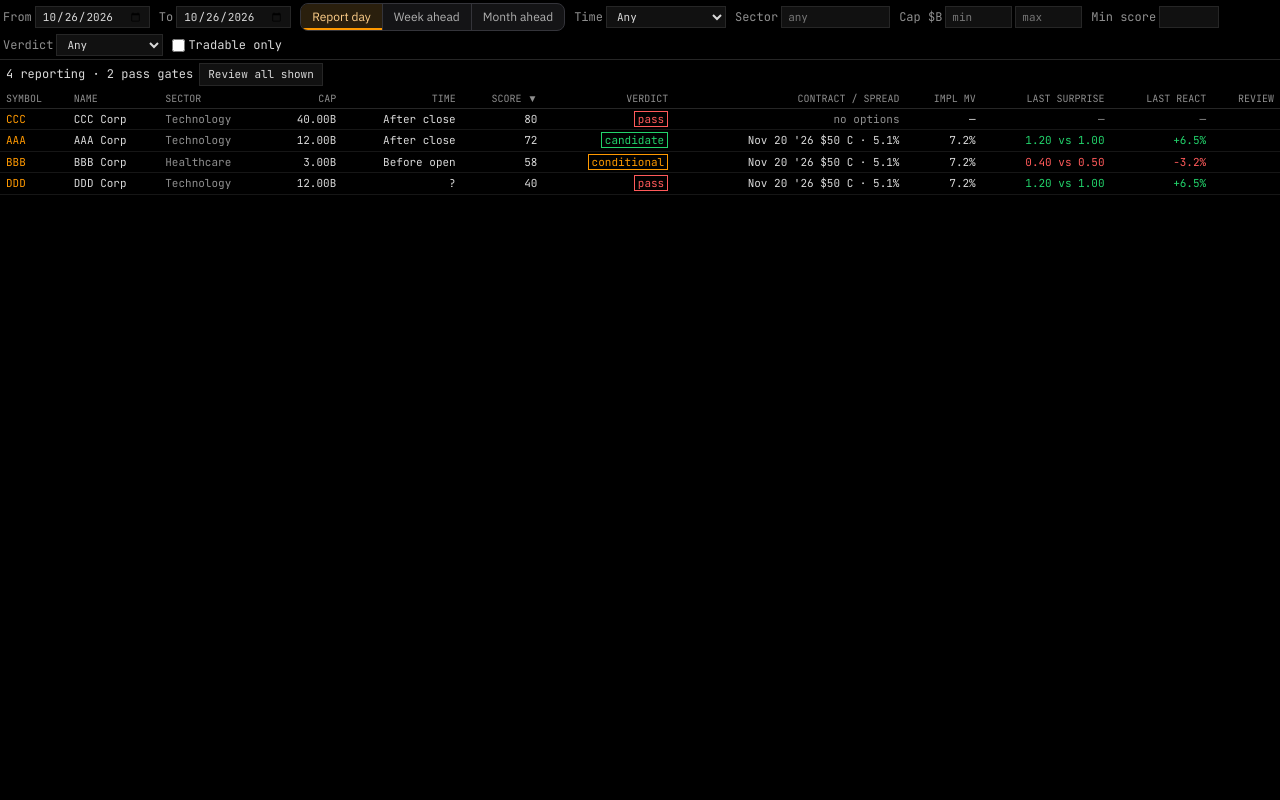
Test case: EarningsTab › asks for confirmation with the estimate before reviewing all shown
The image size is (1280, 800).
Expected: the button "AAA" is shown, [6,132,26,148]
Click the button "Review all shown".
click(261, 74)  # box [199,63,323,86]
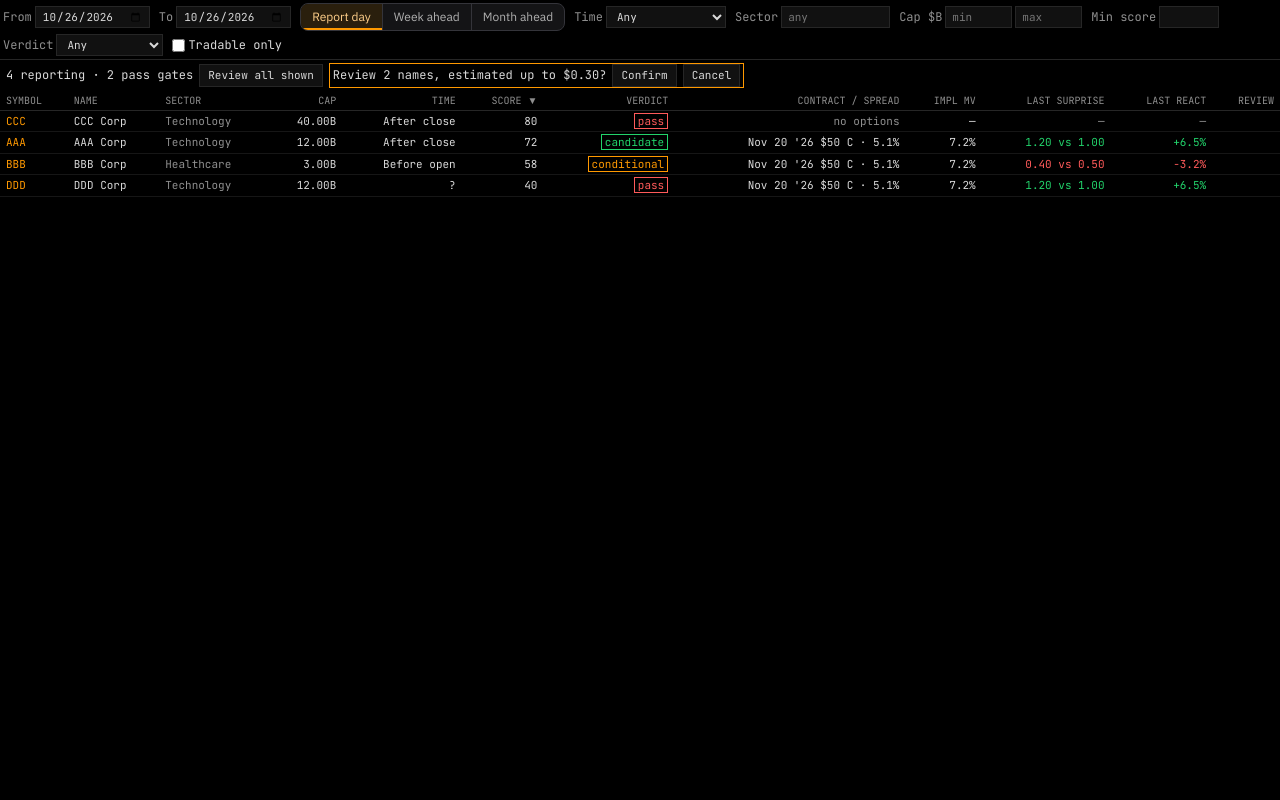
Expected: the dialog shows "Review 2 names, estimated up to $0.30", [329,63,744,88]
Click the button "Cancel".
click(712, 75)  # box [683,64,740,86]
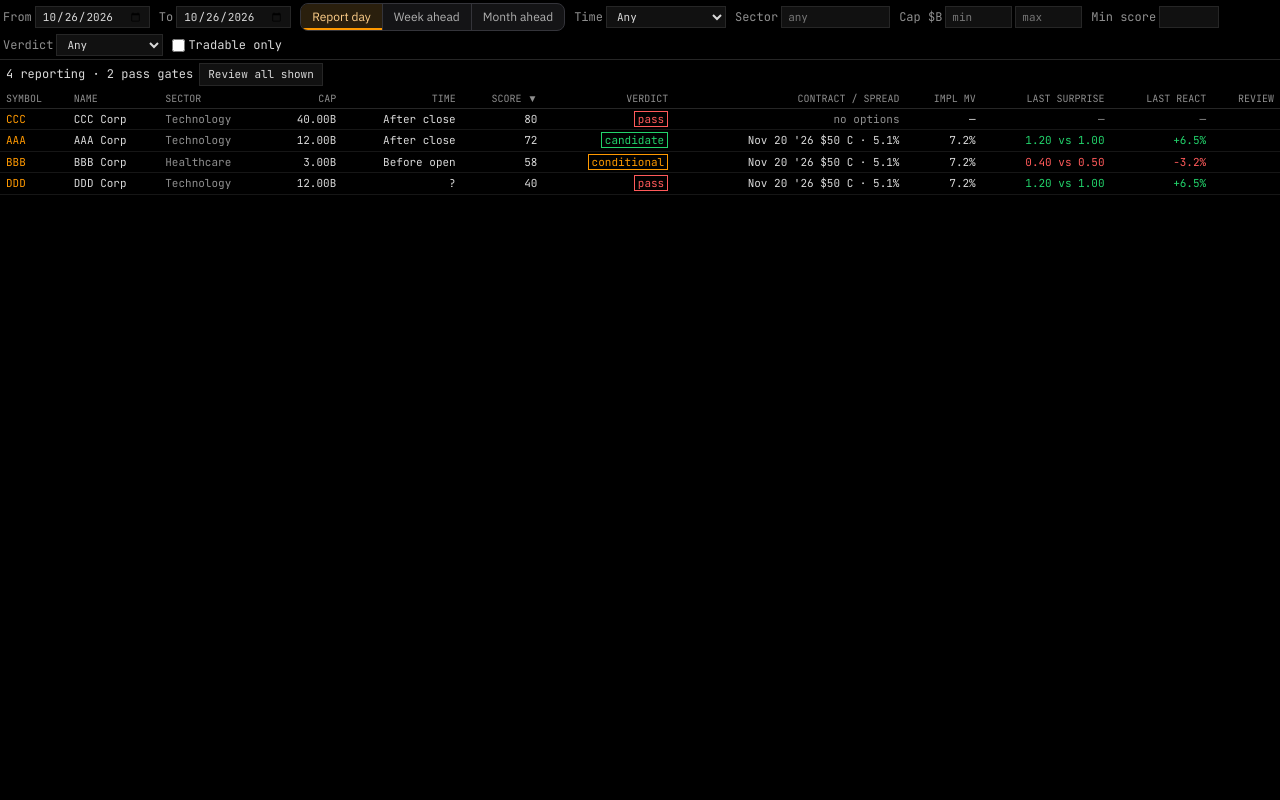
Expected: the dialog is gone
Click the button "Review all shown".
click(261, 74)  # box [199,63,323,86]
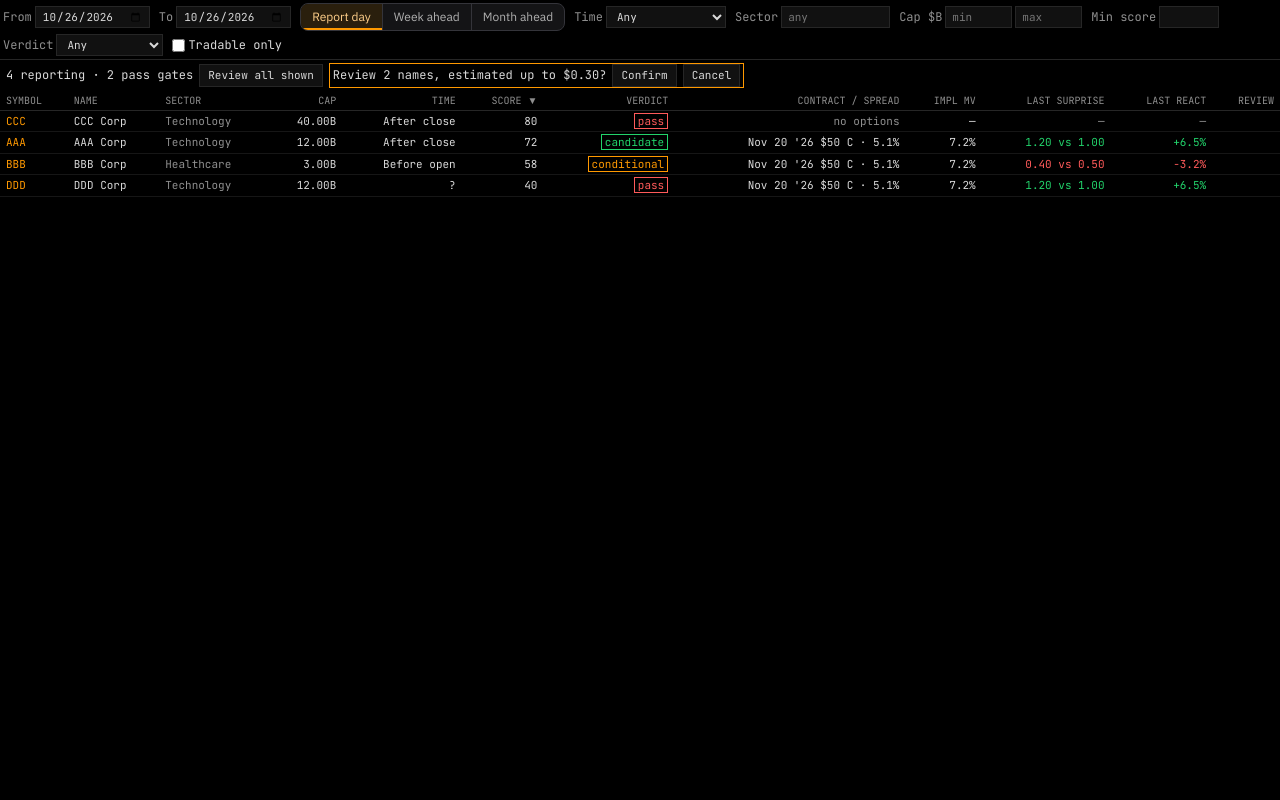
Click the button "Confirm".
click(645, 75)  # box [612,64,677,86]
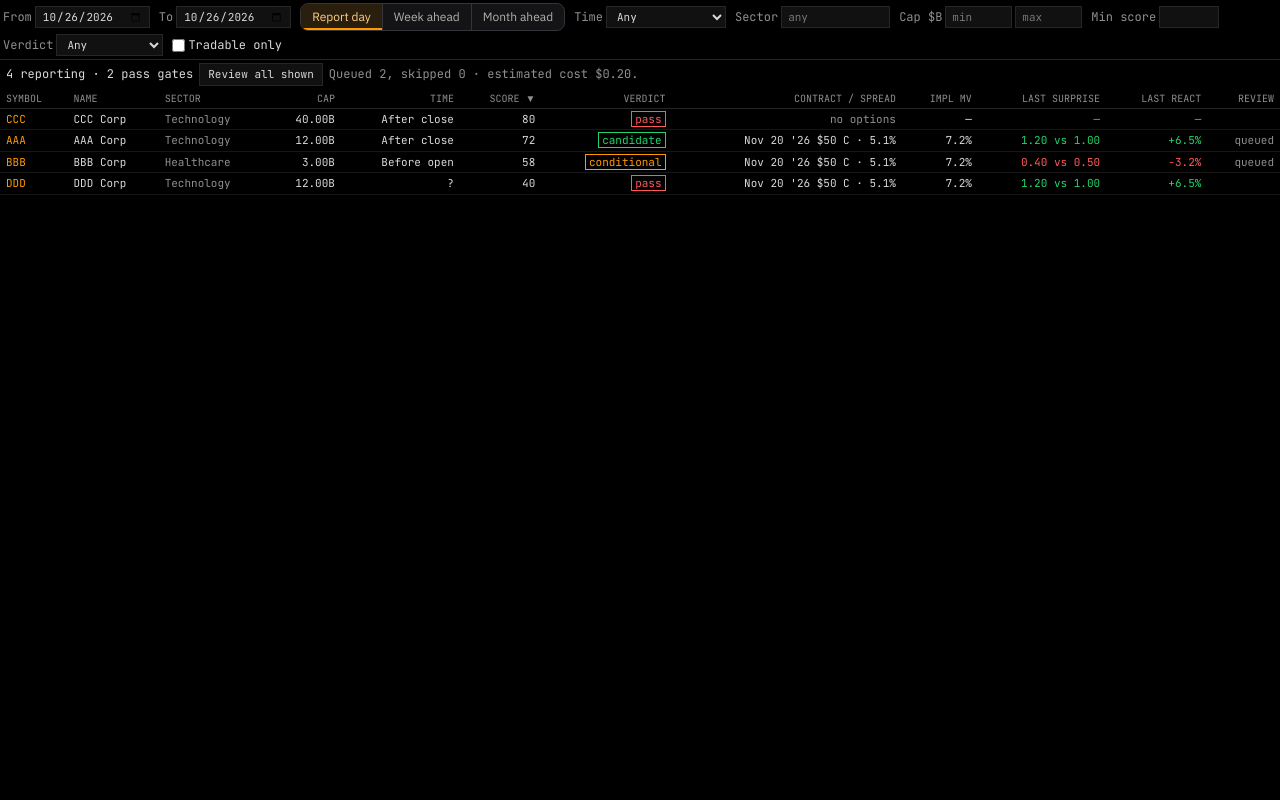
Expected: the text "Queued 2, skipped 0 · estimated cost $0.20." is shown, [329,65,638,83]
